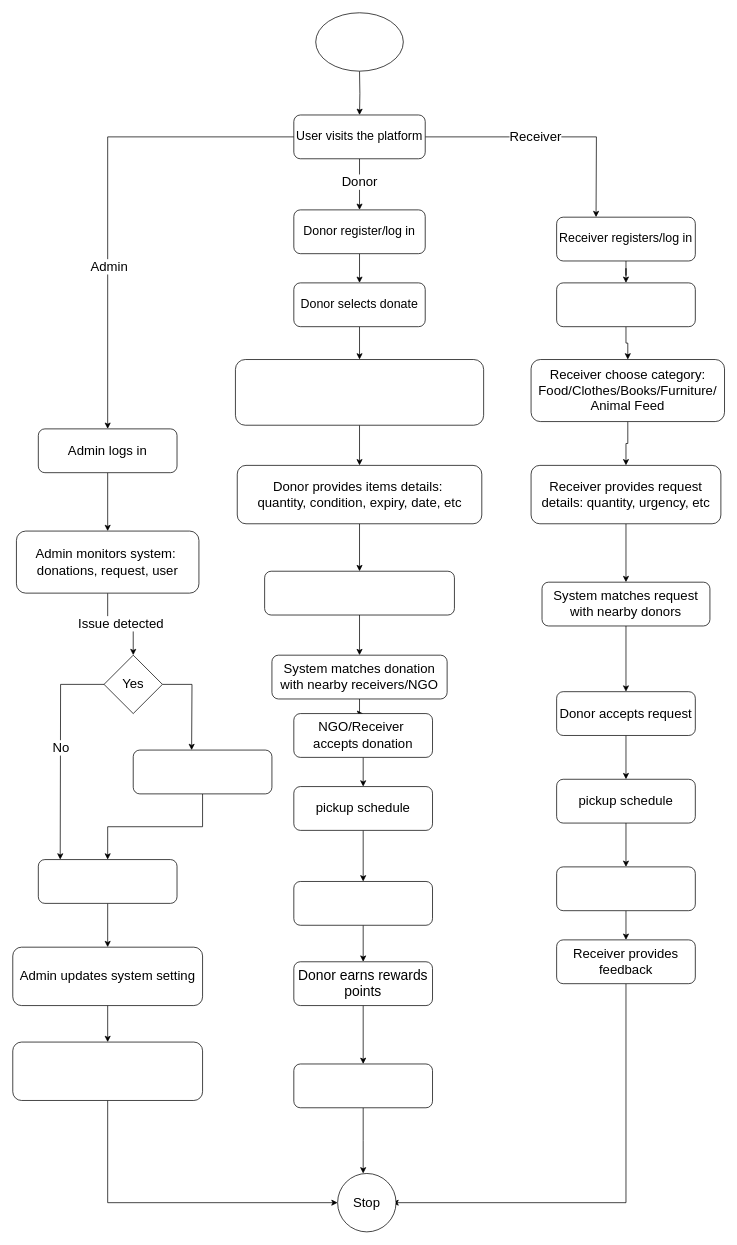
This 737x1245 diagram has some shape labels left out. The centre of each missing label's shape, as x and y in pixels:
"Admin generates reports" belongs at pixel 107 881.
"Admin manages rewards and leaderboard" belongs at pixel 107 1070.
"Admin resolves issue" belongs at pixel 202 771.
"Donation complete" belongs at pixel 363 903.
"Donor choose category: Food/Clothes/Furniture/Animal Feed" belongs at pixel 359 392.
"Donor provide feedback" belongs at pixel 363 1085.
"Donor selects pickup option: self/NGO/Delivery" belongs at pixel 359 592.
"Receiver select Request" belongs at pixel 625 304.
"request fulfilled" belongs at pixel 625 888.
"Start" belongs at pixel 359 41.
